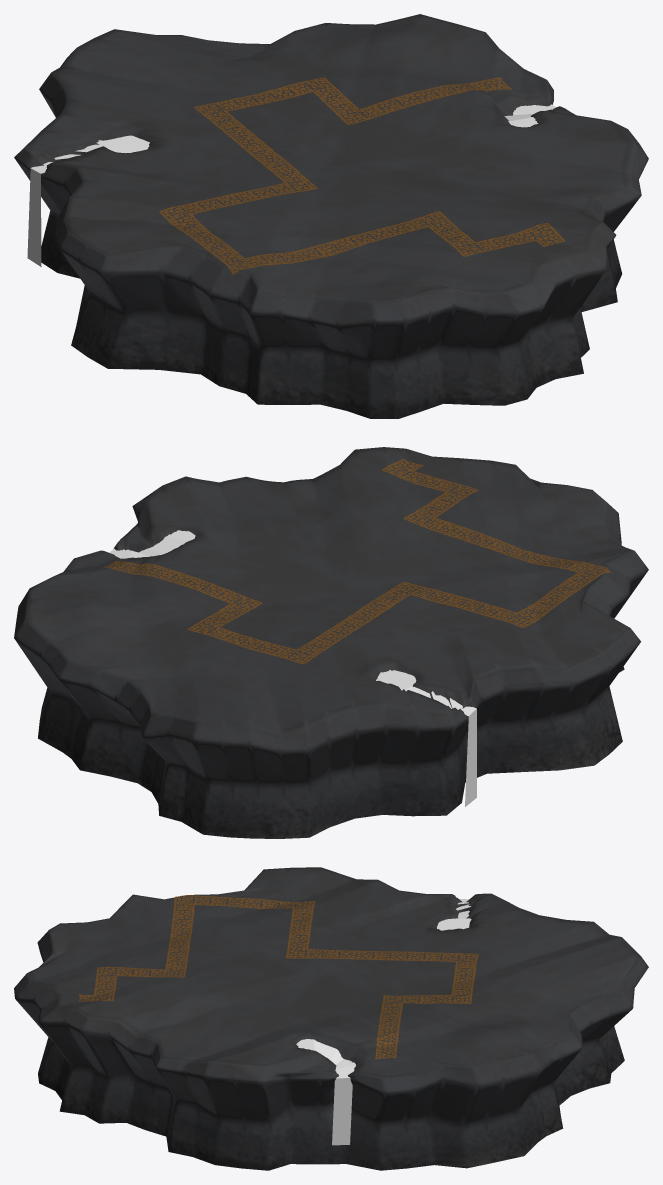
File: add.fbx
3 views of the same model, one above another, from view 1: azimuth 30°, elevation 25°; view 2: azimuth 150°, elevation 25°; view 3: azimuth 270°, elevation 25° (orthographic). The views are drawn at different scales.
Parts seen in each view (by area): view 1: Cylinder.021, StonePath2.002, Plane.007, Plane.006; view 2: Cylinder.021, StonePath2.002, Plane.007, Plane.006; view 3: Cylinder.021, StonePath2.002, Plane.006, Plane.007.
Boxes of the visible parts, <box> form: Cylinder.021: <box>14,14,648,418</box>; StonePath2.002: <box>159,77,565,274</box>; Plane.007: <box>27,135,149,266</box>; Plane.006: <box>504,104,555,127</box>; Cylinder.021: <box>14,447,648,838</box>; StonePath2.002: <box>104,459,610,664</box>; Plane.007: <box>376,670,476,806</box>; Plane.006: <box>109,530,195,558</box>; Cylinder.021: <box>14,867,648,1170</box>; StonePath2.002: <box>78,895,478,1059</box>; Plane.006: <box>296,1039,355,1145</box>; Plane.007: <box>437,899,471,930</box>.
Bounding box in the file's own units: 9093 × 2148 × 11128.
